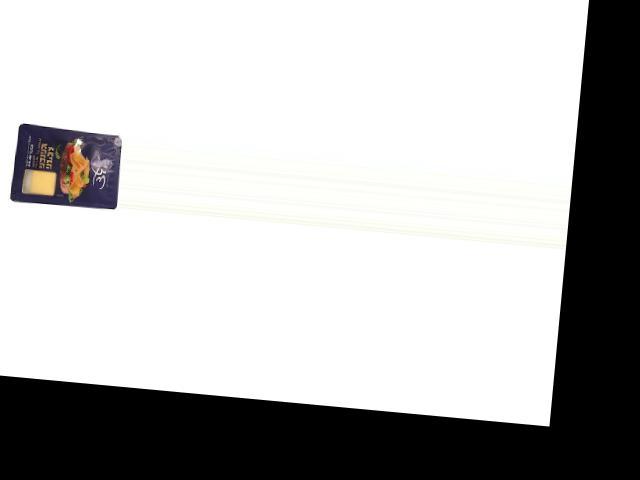cheese: (9, 120, 124, 210)
